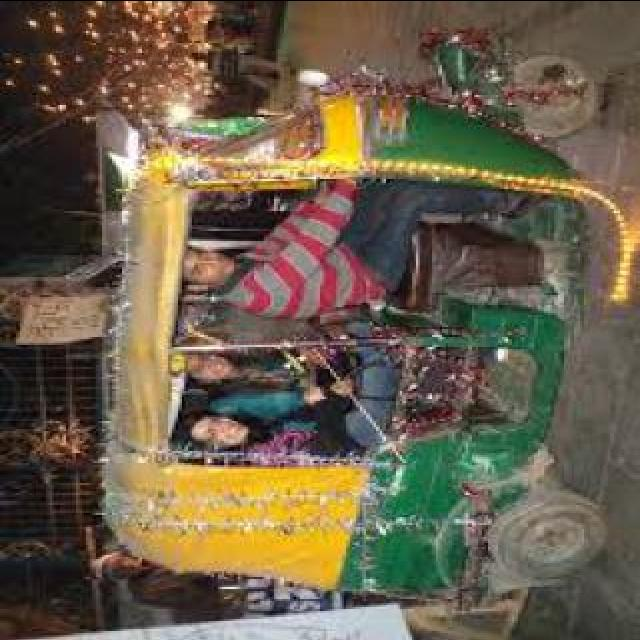Autorickshaw: (104, 18, 640, 590)
